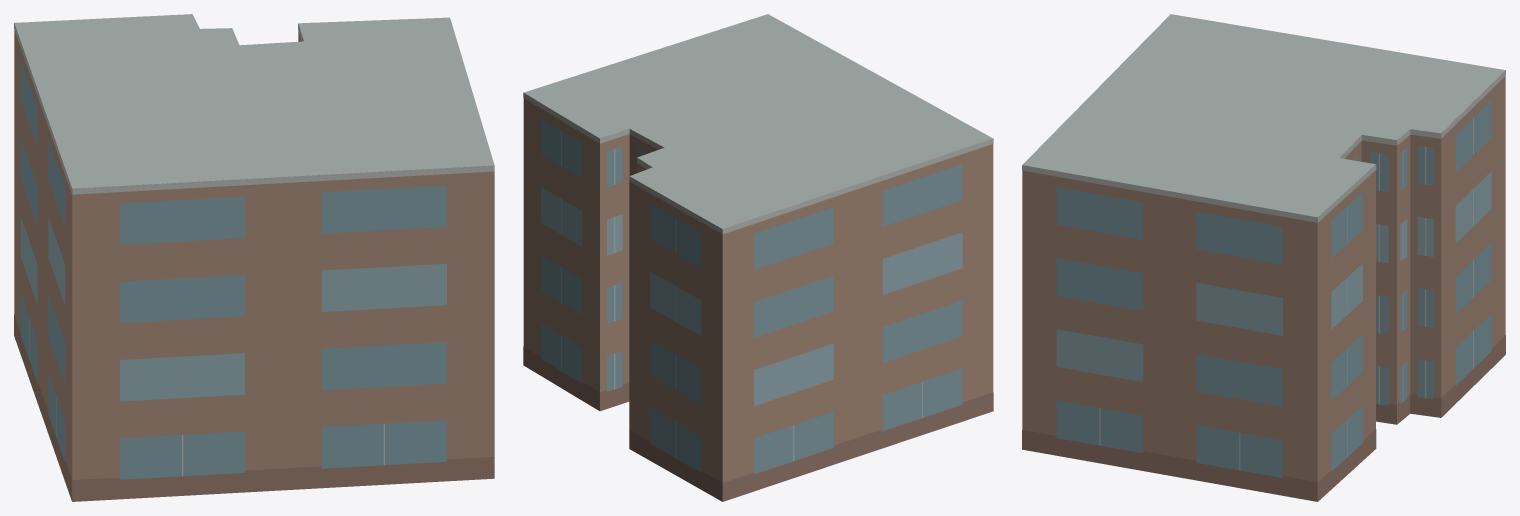
File: survey-upis-32891975.glb
3 renders of one model, left to right at view 1: azimuth 30°, elevation 25°; view 2: azimuth 150°, elevation 25°; view 3: azimuth 270°, elevation 25°, orthographic. The views are drawn at different scales.
Parts seen in each view (by area): view 1: survey-upis-32891975.tmp; view 2: survey-upis-32891975.tmp; view 3: survey-upis-32891975.tmp.
Boxes of the visible parts, x1,y1,x2,y2 form: survey-upis-32891975.tmp: (14,14,494,501); survey-upis-32891975.tmp: (523,14,993,501); survey-upis-32891975.tmp: (1022,14,1505,501).
Size of the model in its own units: 19.32 by 12.6 by 19.42.
